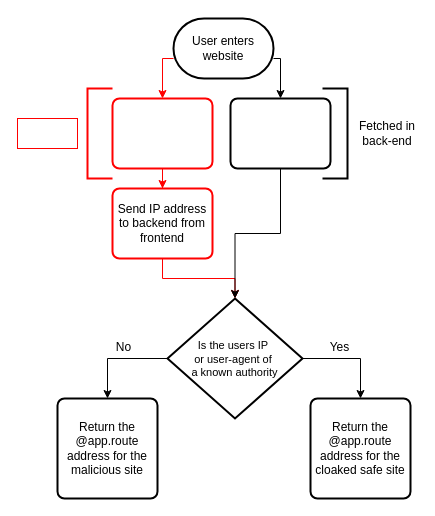
Some shapes in this 435 by 516 pixel diagram are drawn without their labels. Each missing label, with the box of its shape:
Fetch user-agent information: (229, 97, 331, 169)
Fetch users IP address: (111, 97, 213, 169)
Fetched in front-end: (16, 118, 78, 148)
